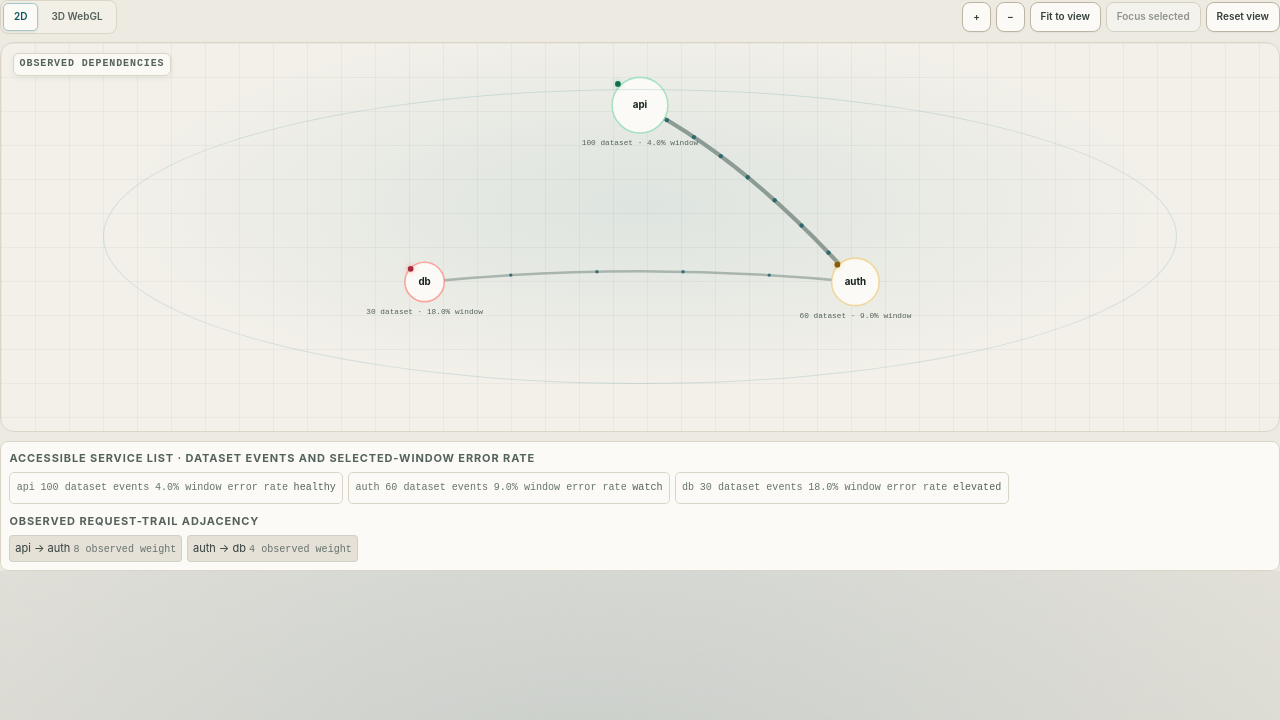
Scenario: TopologyPanel WebGL lifecycle › falls back to 2D and keeps the data reachable when WebGL is unavailable
What coordinates should you click on to do the following:
click the button "3D WebGL"
I would click on:
 (77, 17)
Its box is [40, 3, 114, 31].
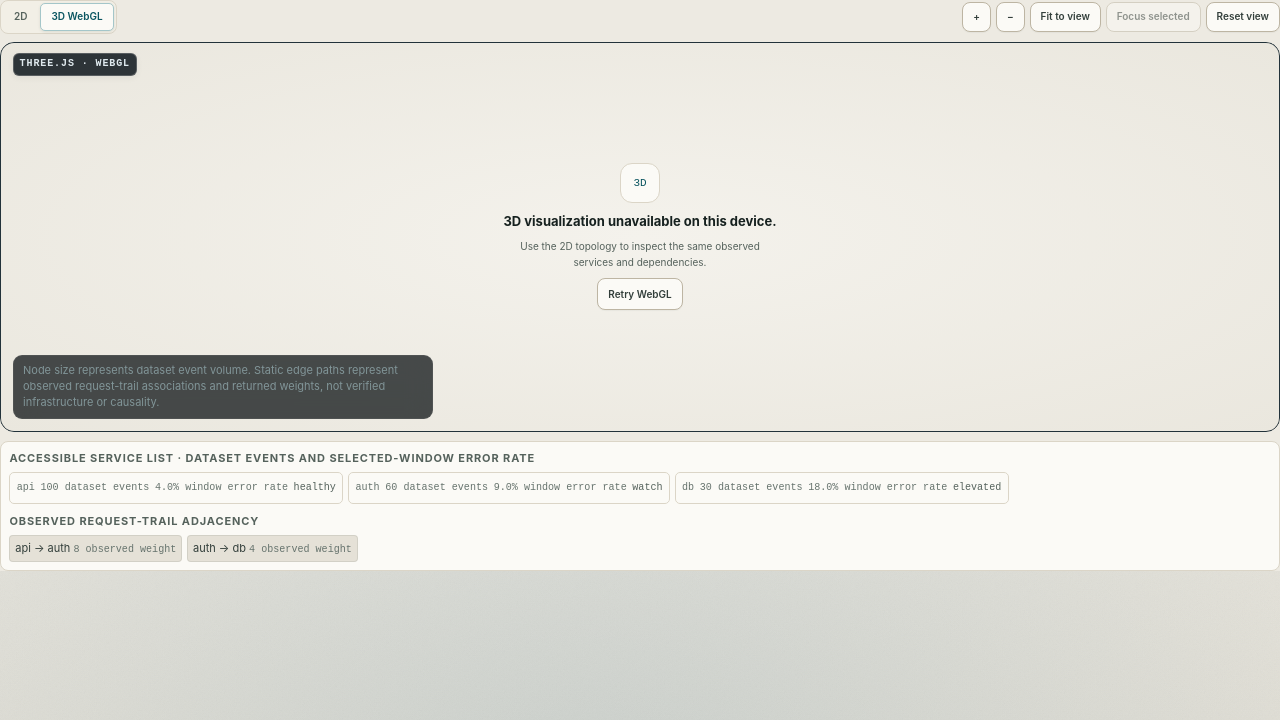
Expected: the list named "Accessible service list" is shown, [9, 472, 1009, 504]
Expected: the text "3D visualization unavailable on this device." is shown, [503, 211, 776, 231]
Expected: the button "Retry WebGL" is shown, [597, 278, 683, 310]
